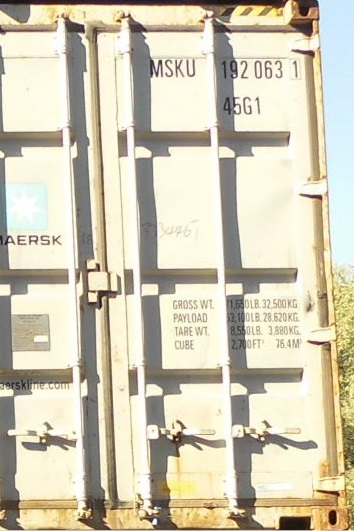container_door: (4, 8, 343, 526)
